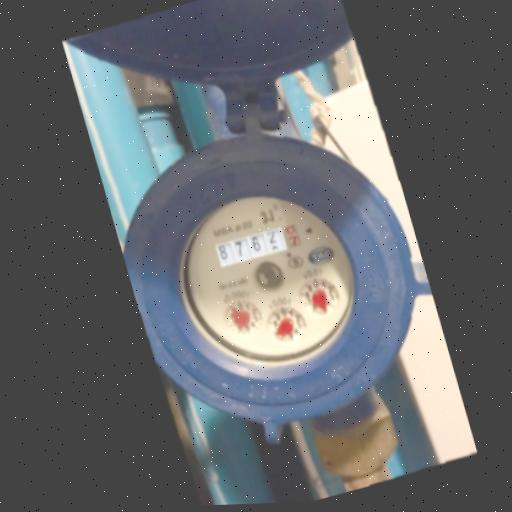2: (265, 230, 283, 250)
6: (284, 224, 300, 248), (249, 234, 267, 255)
7: (233, 238, 251, 259)
8: (217, 243, 234, 265)
border_water_meter_number: (214, 222, 304, 269)
